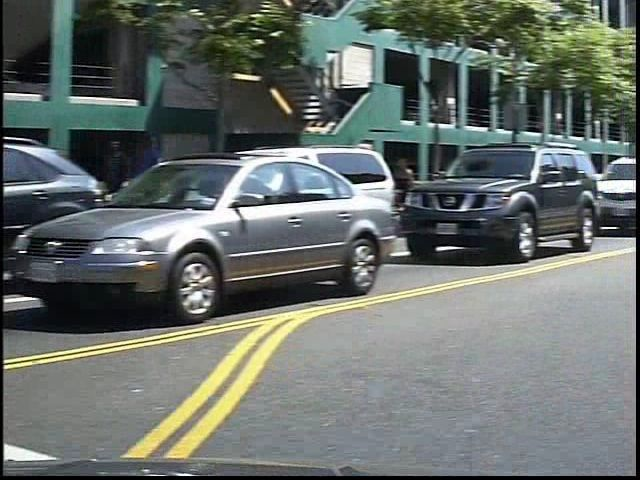person: (138, 128, 188, 251), (402, 156, 432, 230)
